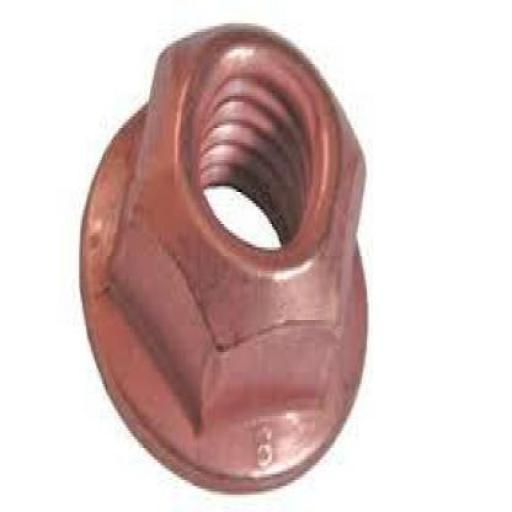Nut: (78, 23, 369, 496)
